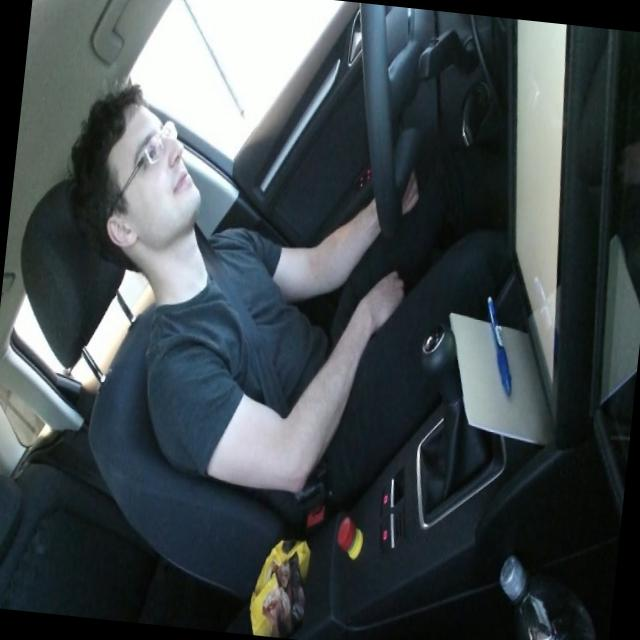pen: (476, 291, 522, 397)
